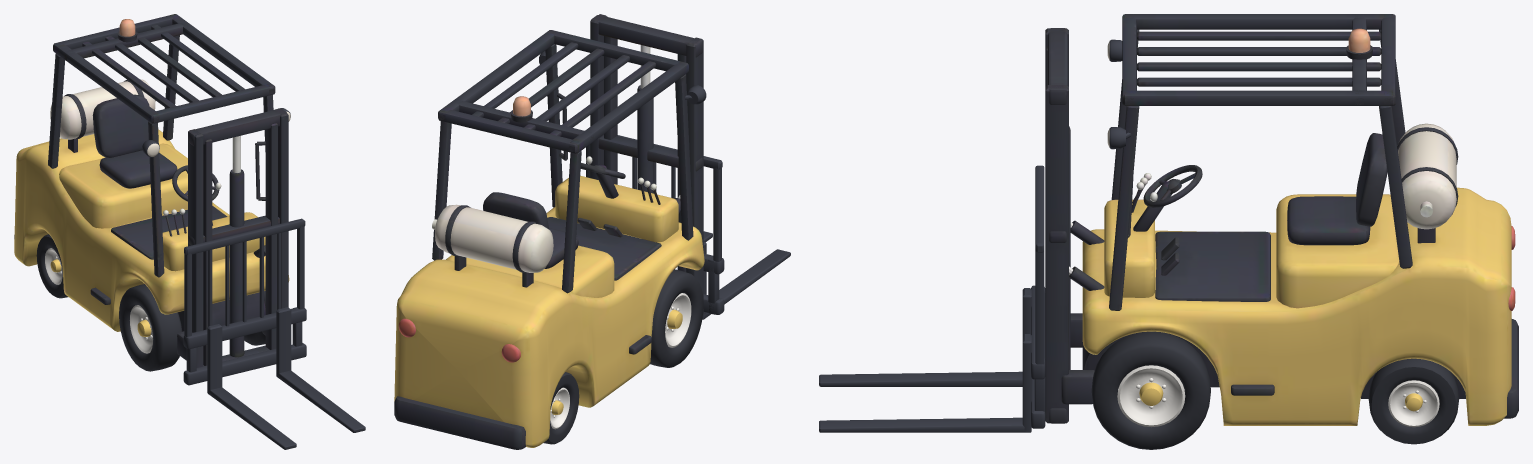
Rendered from forklift.glb.
3 views of the same model, side by side, from view 1: azimuth 30°, elevation 25°; view 2: azimuth 150°, elevation 25°; view 3: azimuth 270°, elevation 25° (orthographic). The views are drawn at different scales.
Parts seen in each view (by area): view 1: forklift_body, forklift_fork_carriage, forklift_wheel_fr, forklift_wheel_rr; view 2: forklift_body, forklift_fork_carriage, forklift_wheel_fr, forklift_wheel_rr, forklift_headlights; view 3: forklift_body, forklift_wheel_fl, forklift_fork_carriage, forklift_wheel_rl, forklift_headlights.
Boxes of the visible parts, left/top/right/bottom form: forklift_body: left=14, top=14, right=289, bottom=367; forklift_fork_carriage: left=183, top=218, right=365, bottom=449; forklift_wheel_fr: left=119, top=284, right=182, bottom=371; forklift_wheel_rr: left=36, top=234, right=67, bottom=298; forklift_body: left=394, top=14, right=704, bottom=449; forklift_fork_carriage: left=586, top=135, right=790, bottom=319; forklift_wheel_fr: left=650, top=269, right=703, bottom=367; forklift_wheel_rr: left=544, top=372, right=579, bottom=444; forklift_headlights: left=539, top=51, right=706, bottom=104; forklift_body: left=1045, top=14, right=1518, bottom=425; forklift_wheel_fl: left=1091, top=331, right=1210, bottom=449; forklift_fork_carriage: left=819, top=165, right=1045, bottom=432; forklift_wheel_rl: left=1368, top=358, right=1459, bottom=444; forklift_headlights: left=1107, top=39, right=1131, bottom=149.
Size of the model in its own units: 1.26 by 2.32 by 3.87.
6 materials, 1 textured.
